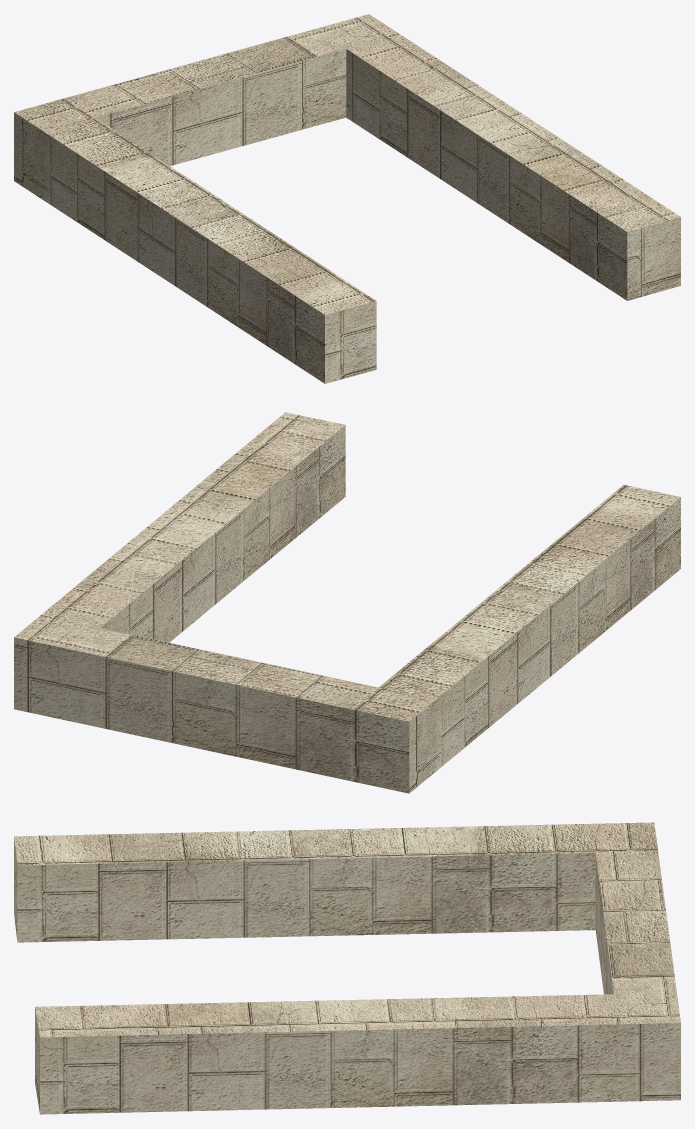
Rendered from walls_111.fbx.
3 renders of one model, top to bottom at view 1: azimuth 30°, elevation 25°; view 2: azimuth 150°, elevation 25°; view 3: azimuth 270°, elevation 25°, orthographic. The views are drawn at different scales.
Visible parts, largest first — view 1: walls_111; view 2: walls_111; view 3: walls_111.
Part boxes in pixels (box(x1,y1,x2,y2)): walls_111: box(14, 14, 680, 383); walls_111: box(14, 412, 680, 793); walls_111: box(14, 822, 680, 1114).
Bounding box in the file's own units: 179 × 30 × 235.
